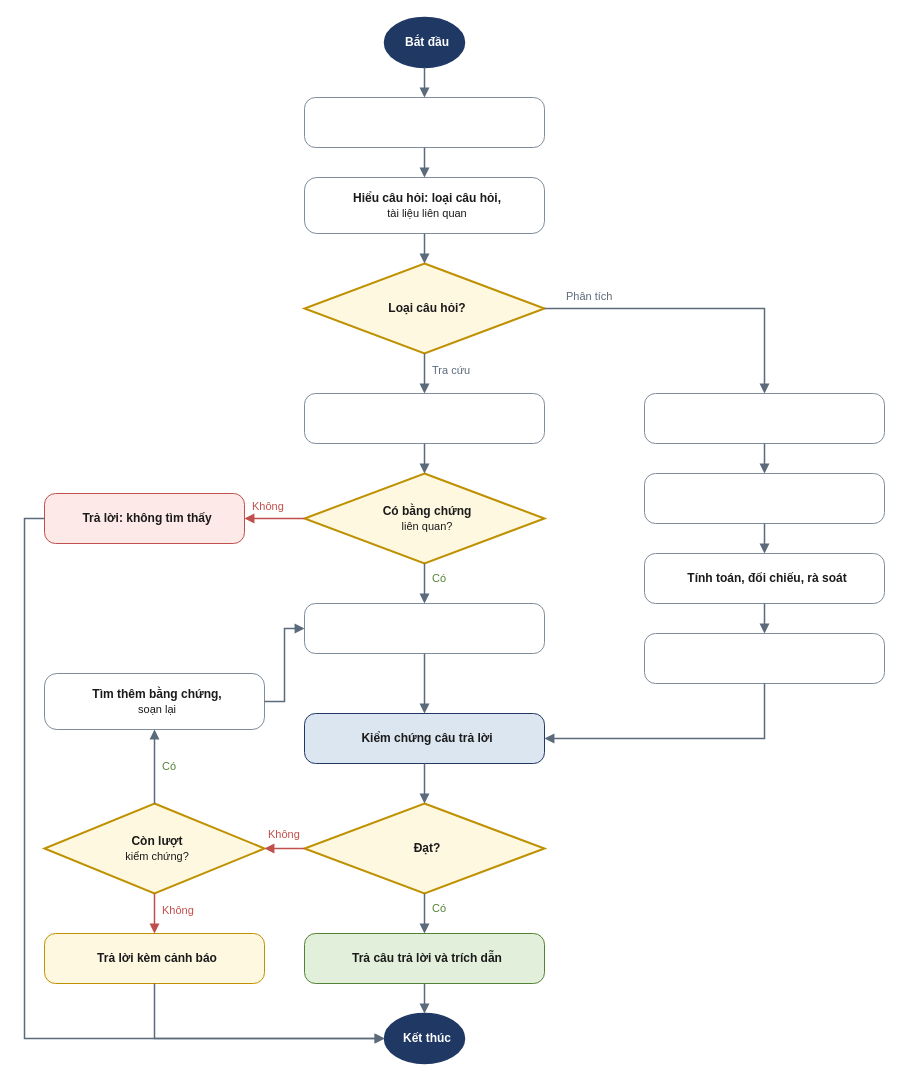
This 903x1082 diagram has some shape labels left out. Each missing label, with the box of its shape:
Lấy bằng chứng từng tài liệu: (644, 472, 884, 524)
Lập kế hoạch phân tích: (644, 392, 884, 444)
Người dùng nhập câu hỏi: (304, 96, 544, 148)
Soạn câu trả lời có trích dẫn: (304, 602, 544, 654)
Soạn kết quả có trích dẫn: (644, 632, 884, 684)
Tìm bằng chứng: (304, 392, 544, 444)
